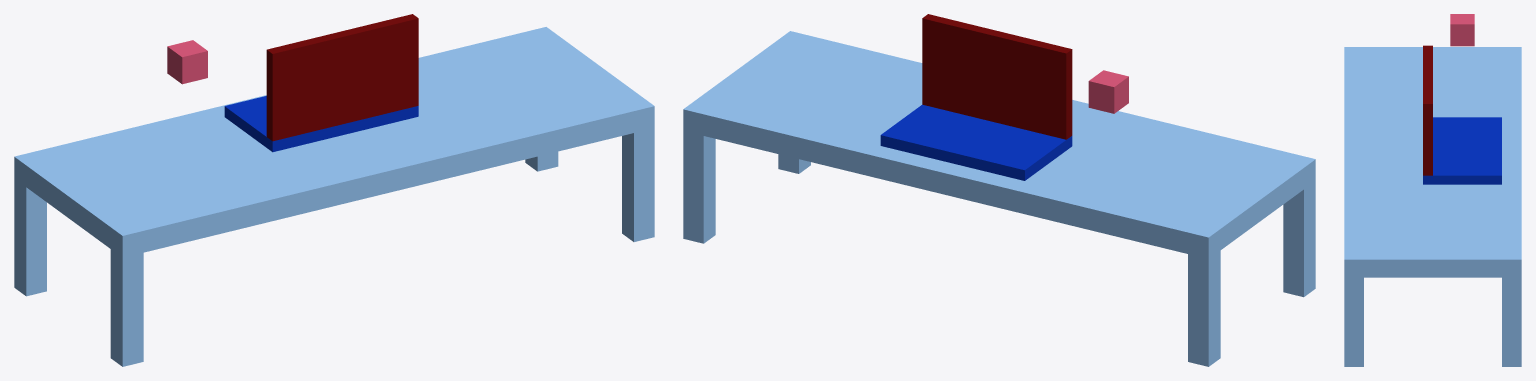
3 views of the same model, side by side, from view 1: azimuth 30°, elevation 25°; view 2: azimuth 150°, elevation 25°; view 3: azimuth 270°, elevation 25° (orthographic). The views are drawn at different scales.
Parts seen in each view (by area): view 1: TestDesk, TestCube; view 2: TestDesk, TestCube; view 3: TestDesk, TestCube.
Boxes of the visible parts, box(x1,y1,x2,y2) form: TestDesk: box(14, 14, 654, 366); TestCube: box(167, 40, 207, 84); TestDesk: box(683, 14, 1315, 366); TestCube: box(1088, 70, 1128, 113); TestDesk: box(1344, 45, 1521, 366); TestCube: box(1450, 14, 1474, 46).
Bounding box in the file's own units: 5.1 × 2.12 × 1.8.
Materials: 2 (1 with a texture image).
